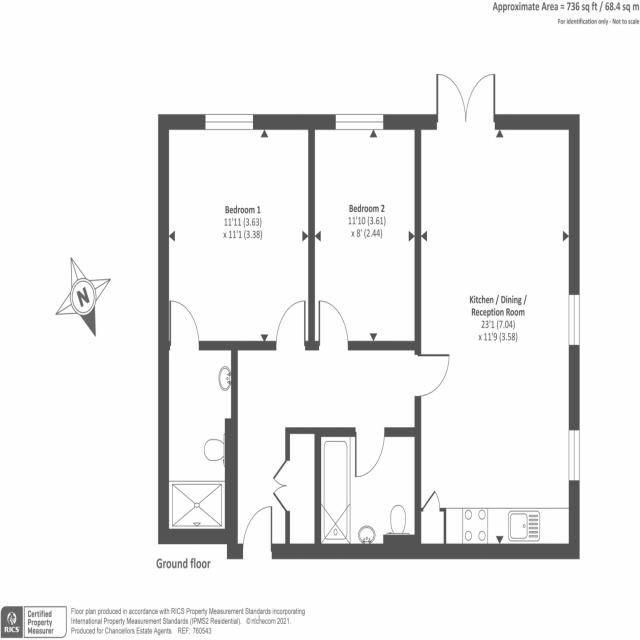DOOR: (241, 504, 273, 559), (414, 351, 451, 398), (168, 299, 200, 351), (354, 427, 386, 478), (317, 299, 349, 350), (275, 299, 307, 350)
DOUBLE DOOR: (434, 68, 498, 128)
ROOM: (414, 72, 580, 559), (158, 114, 315, 351), (308, 114, 421, 350)
WINDOW: (204, 113, 254, 131), (334, 113, 384, 130), (568, 292, 580, 347), (568, 427, 580, 482)
